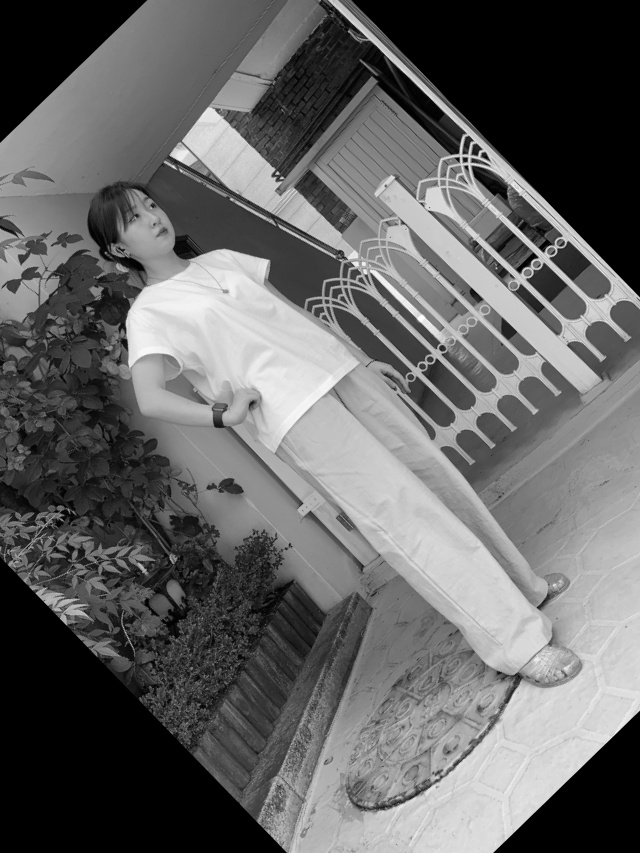earphone: (105, 236, 133, 265)
